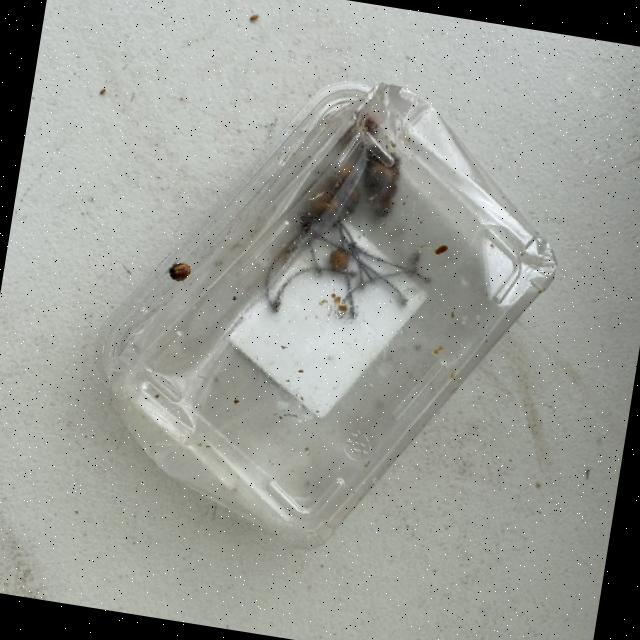plastic: (69, 42, 582, 581)
